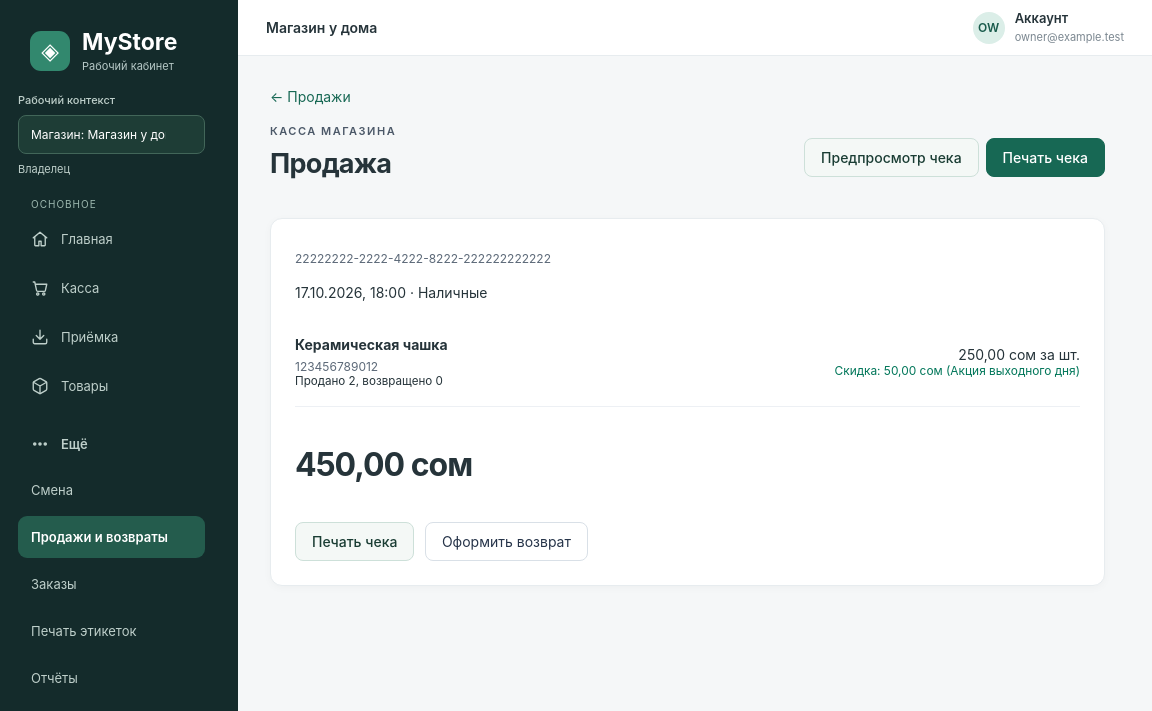
Test: renders sale details and allows previewing and printing receipt
expect the heading "Продажа" is shown: met, box [270,147,396,180]
expect the text "Керамическая чашка" is shown: met, box [295,336,448,353]
Click the button "Печать чека" in the row of "Продажа".
click(1045, 157)  # box [986,138,1105,177]
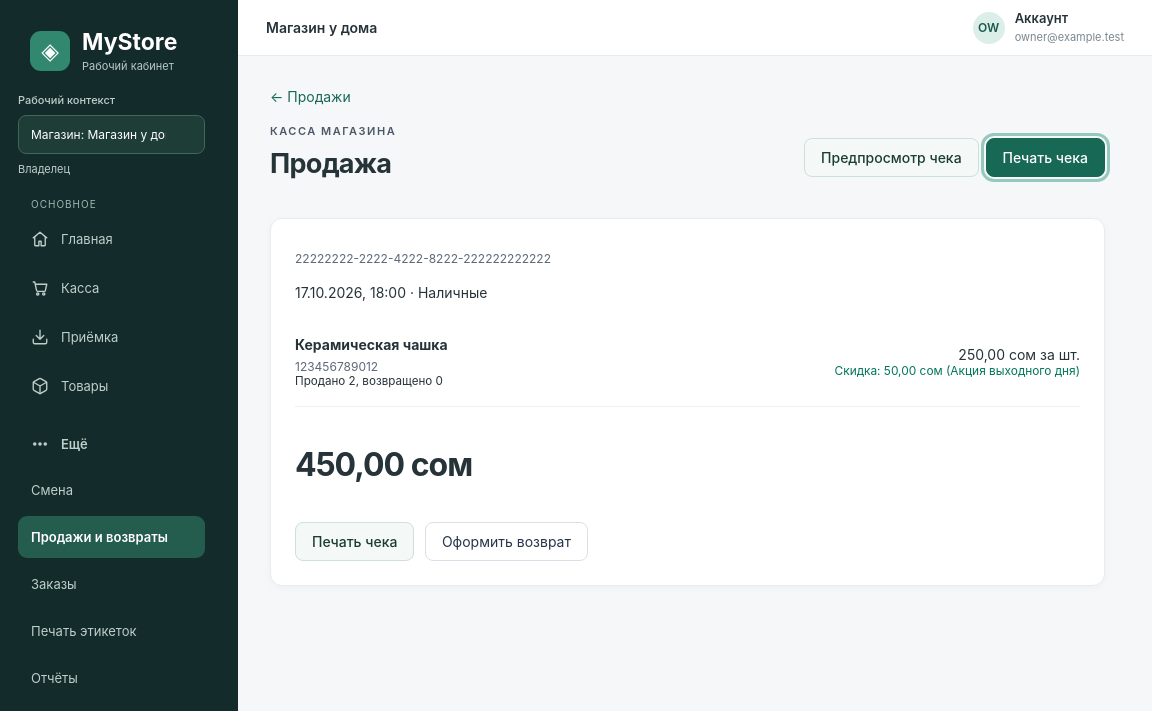
Click the button "Предпросмотр чека".
click(891, 157)  # box [804,138,979,177]
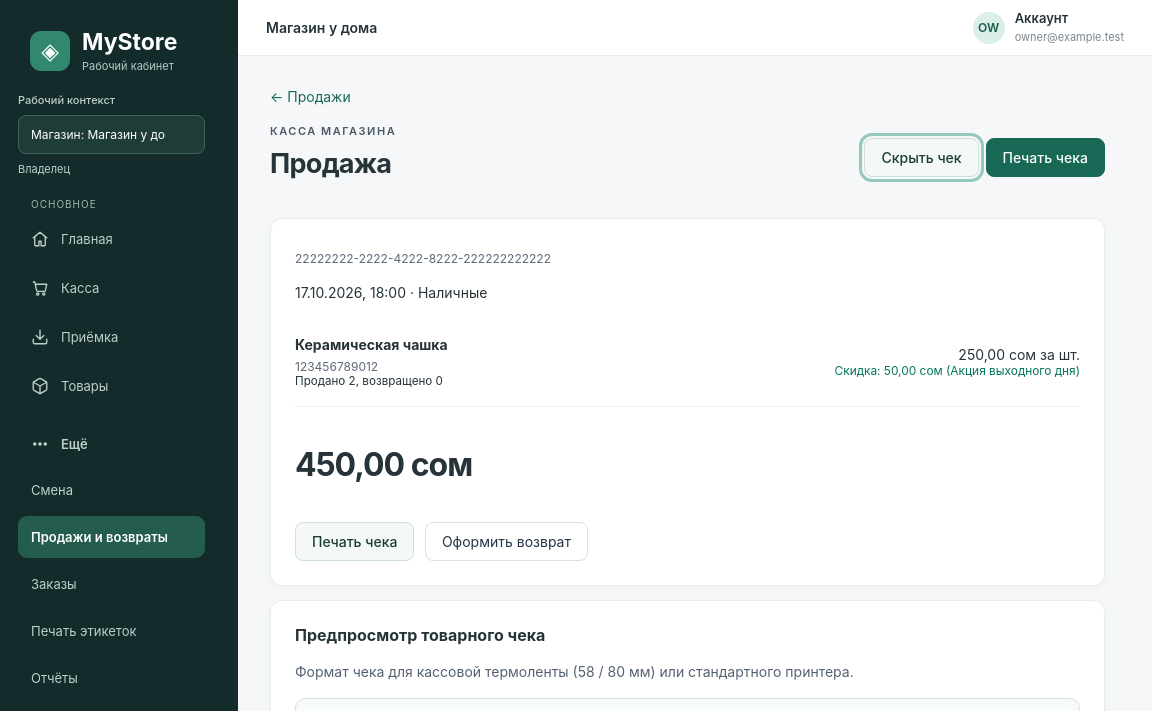
expect the heading "Предпросмотр товарного чека" is shown: met, box [295,625,545,645]
Toggle off
Click the button "Скрыть чек".
click(922, 157)  # box [864,138,979,177]
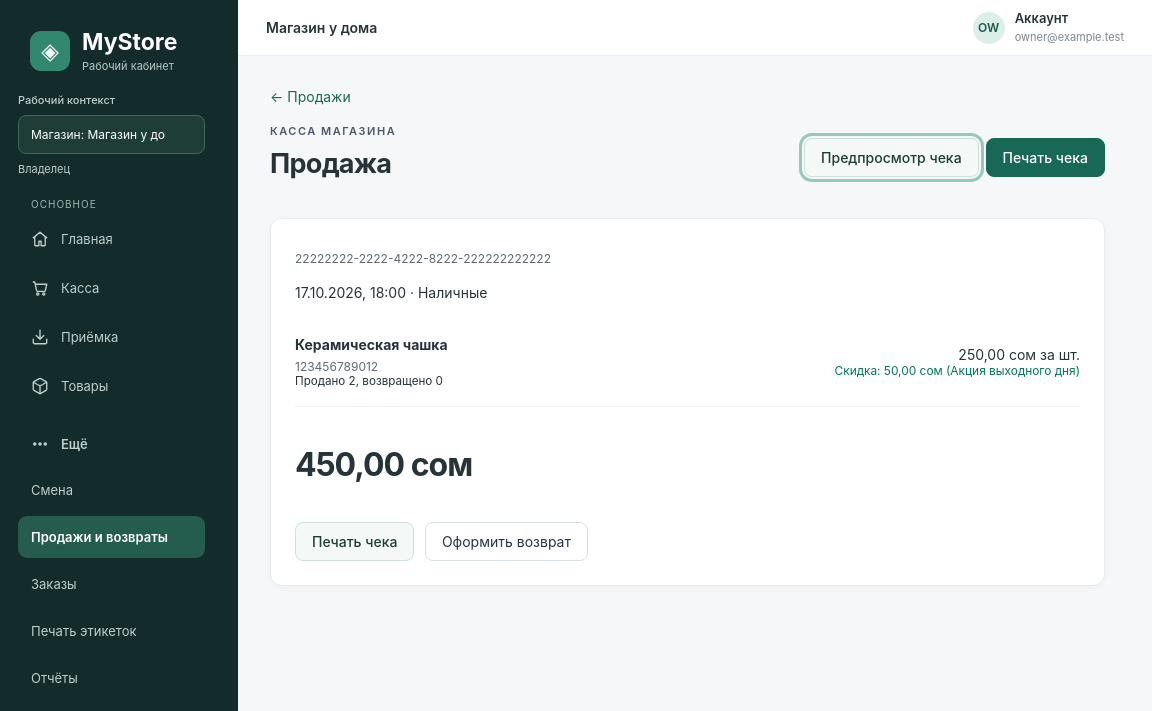
expect the heading "Предпросмотр товарного чека" is gone: met
